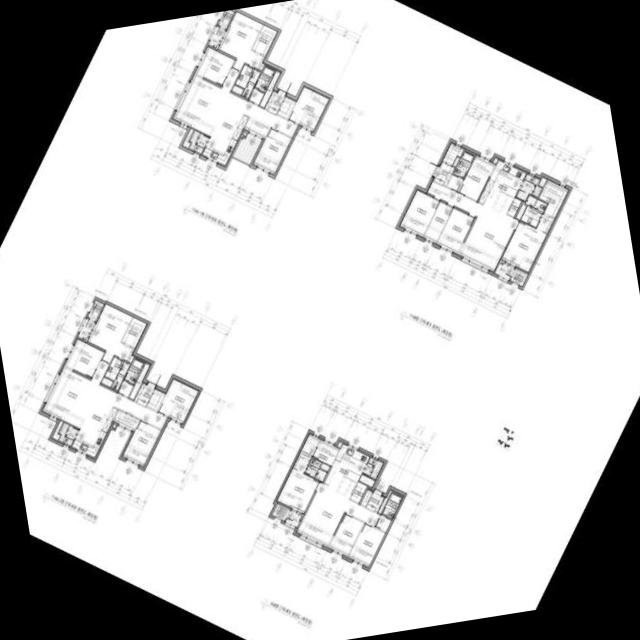background: (0, 0, 640, 640)
space_balconi: (232, 135, 260, 164), (189, 130, 209, 154), (58, 422, 78, 446), (362, 457, 382, 479), (208, 26, 225, 48), (77, 318, 94, 340), (494, 262, 514, 280), (285, 510, 302, 527)
space_bedroom: (501, 214, 554, 272), (217, 12, 264, 71), (87, 304, 133, 363), (276, 469, 319, 513), (399, 190, 439, 237), (288, 86, 329, 131), (157, 378, 198, 423), (122, 421, 161, 466), (436, 208, 474, 254), (253, 128, 291, 174), (458, 156, 494, 201), (348, 523, 384, 567), (195, 47, 234, 86), (64, 339, 103, 378), (328, 514, 363, 556)
space_dressroom: (538, 180, 568, 218), (292, 434, 319, 473), (251, 25, 277, 56), (121, 317, 146, 348)
space_front: (433, 162, 454, 186), (264, 91, 284, 115), (134, 383, 154, 407), (365, 492, 383, 512)
space_kitchen: (202, 106, 248, 165), (71, 398, 117, 457), (478, 160, 525, 215), (323, 444, 369, 500)
space_living_room: (173, 68, 298, 138), (42, 361, 167, 430), (426, 181, 518, 271), (296, 482, 379, 547)
space_other: (423, 202, 452, 243), (259, 71, 280, 108), (128, 363, 149, 400), (312, 440, 339, 466), (243, 117, 270, 139), (113, 410, 139, 431), (442, 143, 463, 165), (146, 388, 165, 411), (277, 97, 295, 119), (350, 482, 366, 503), (378, 490, 391, 514), (375, 515, 391, 532), (507, 198, 521, 217), (446, 175, 462, 191), (117, 381, 133, 397), (181, 128, 193, 149), (248, 89, 263, 105), (515, 202, 526, 220), (360, 490, 372, 506), (358, 475, 374, 487), (52, 421, 62, 440), (538, 177, 546, 187), (320, 463, 329, 471), (452, 157, 459, 167), (259, 63, 264, 71), (128, 355, 133, 363), (492, 158, 497, 164), (337, 442, 341, 448), (112, 424, 116, 428), (243, 132, 246, 136)
space_outdoor_room: (87, 300, 103, 321), (509, 268, 527, 286), (271, 503, 289, 521), (217, 10, 234, 29)
space_toilet: (231, 64, 260, 98), (101, 357, 129, 390), (520, 195, 547, 227), (515, 174, 542, 201), (453, 151, 474, 178), (381, 493, 402, 519), (123, 358, 144, 384), (254, 66, 274, 92), (304, 458, 326, 481)
